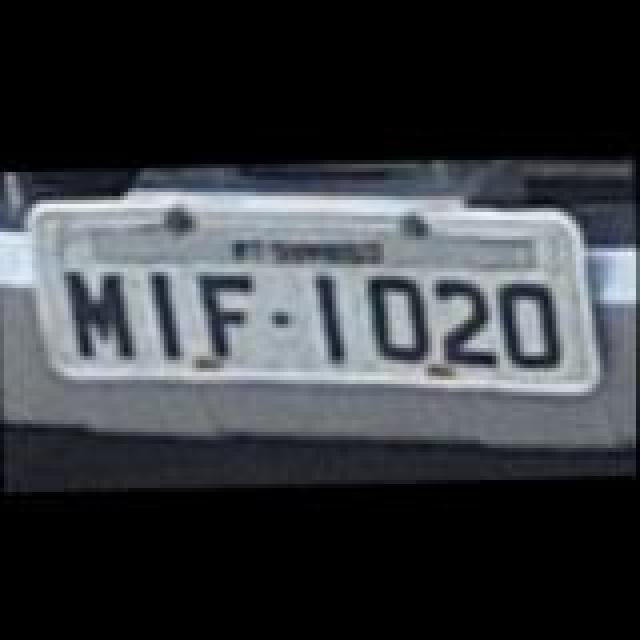1: (302, 274, 358, 362), (138, 270, 194, 358)
2: (426, 272, 506, 368)
D: (360, 270, 444, 362), (488, 278, 572, 370)
F: (188, 268, 272, 360)
M: (56, 268, 148, 364)
